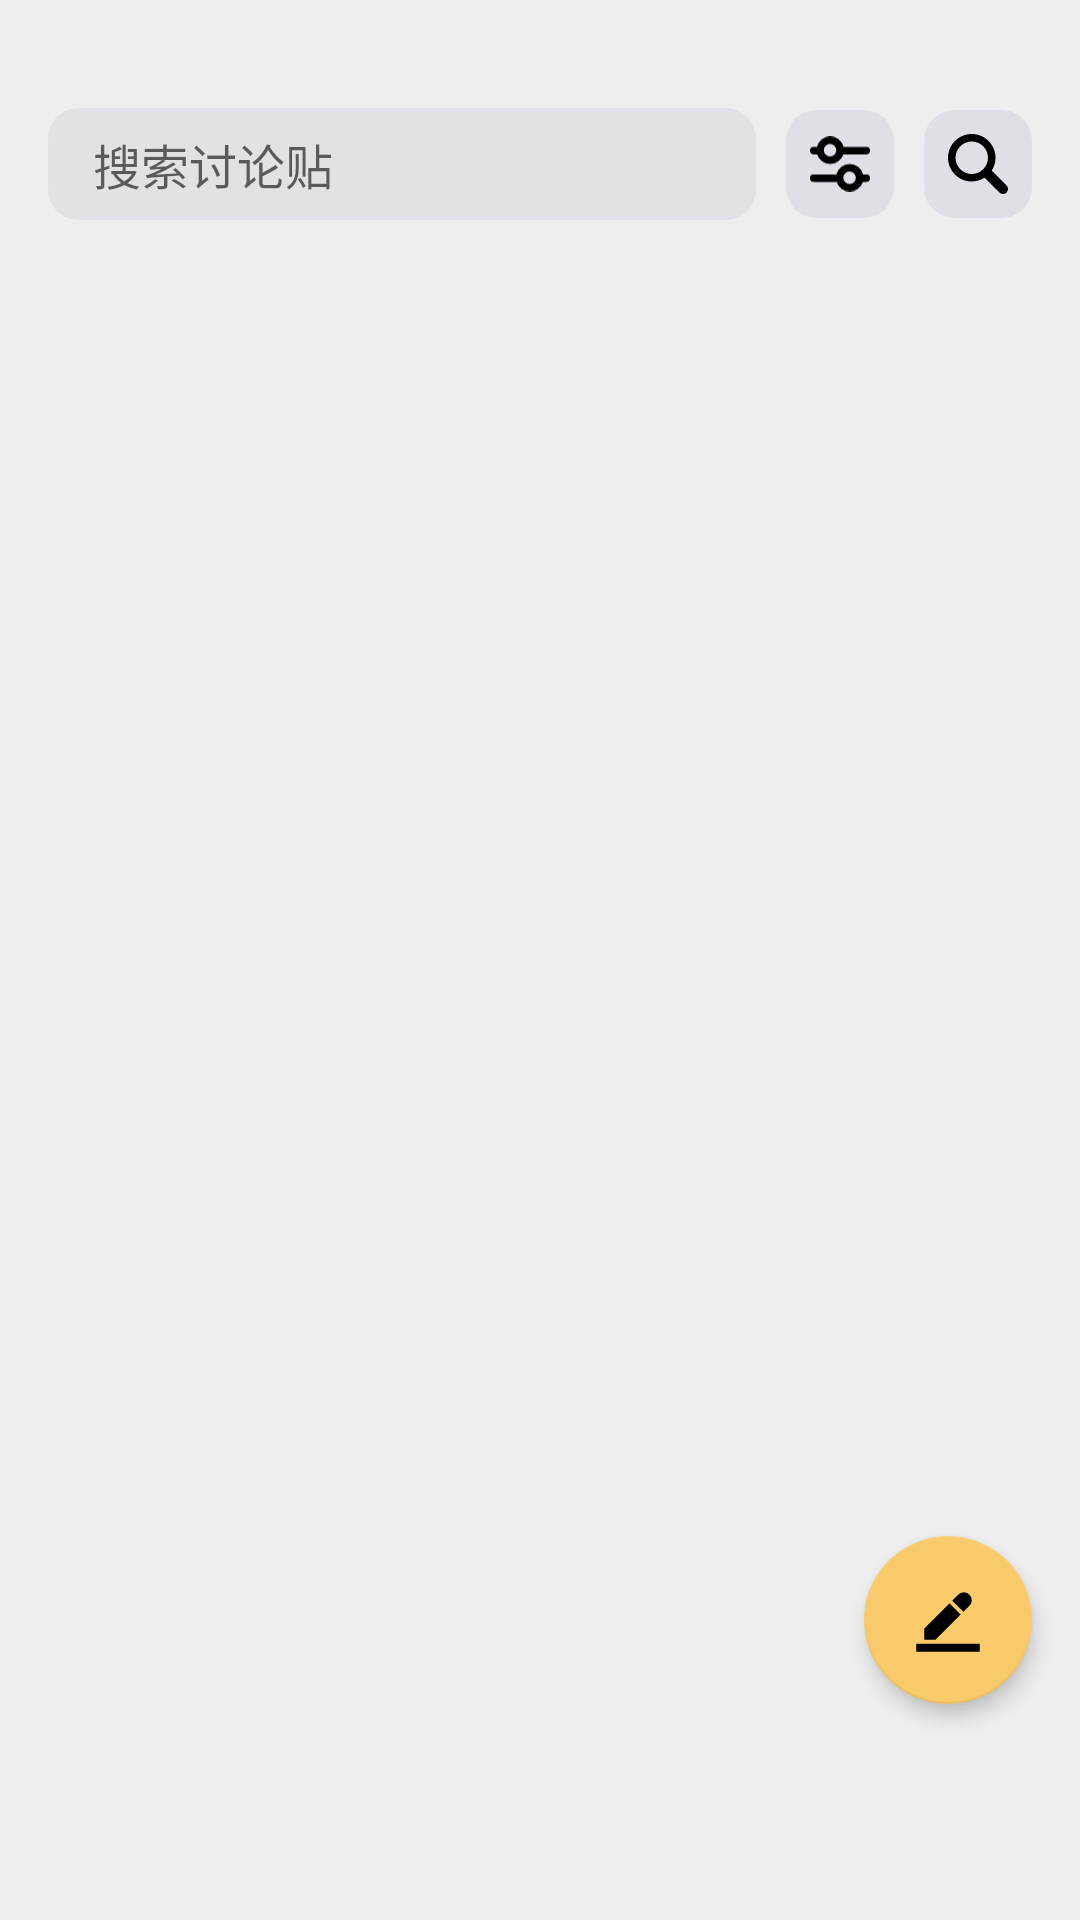

Icons on this 1080 x 1920 Android screen, each with the point to tap as [x,y]:
edit: [948,1620]
filter: [840,164]
search: [978,164]
